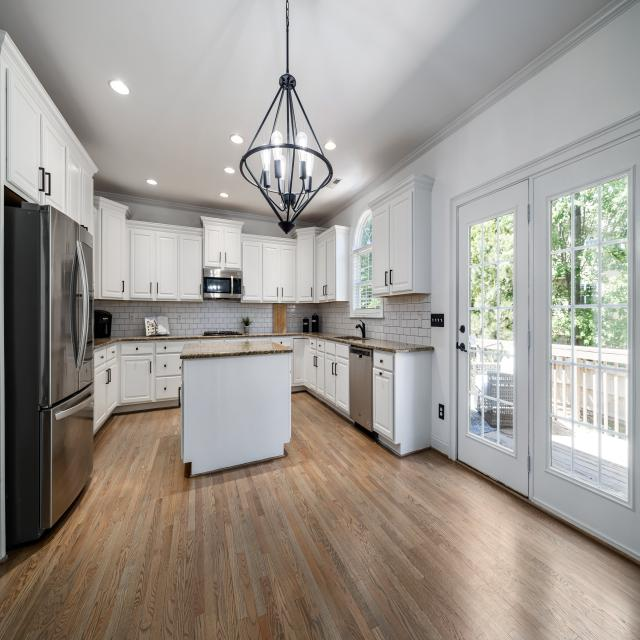Appliance_Dishwasher: (349, 346, 373, 432)
Appliance_Fridge: (4, 205, 94, 554)
Appliance_Microwave: (204, 268, 241, 301)
Appliance_Sink: (327, 320, 367, 342)
Cabinet_Flat: (94, 342, 185, 398), (307, 339, 349, 358), (374, 350, 395, 370), (268, 338, 294, 348)
Cabinet_Raised_Panel: (5, 78, 337, 304), (94, 355, 154, 432), (372, 189, 413, 297), (292, 338, 348, 417), (373, 367, 393, 440)
Countertop_Granite: (94, 332, 428, 350), (181, 342, 294, 358)
